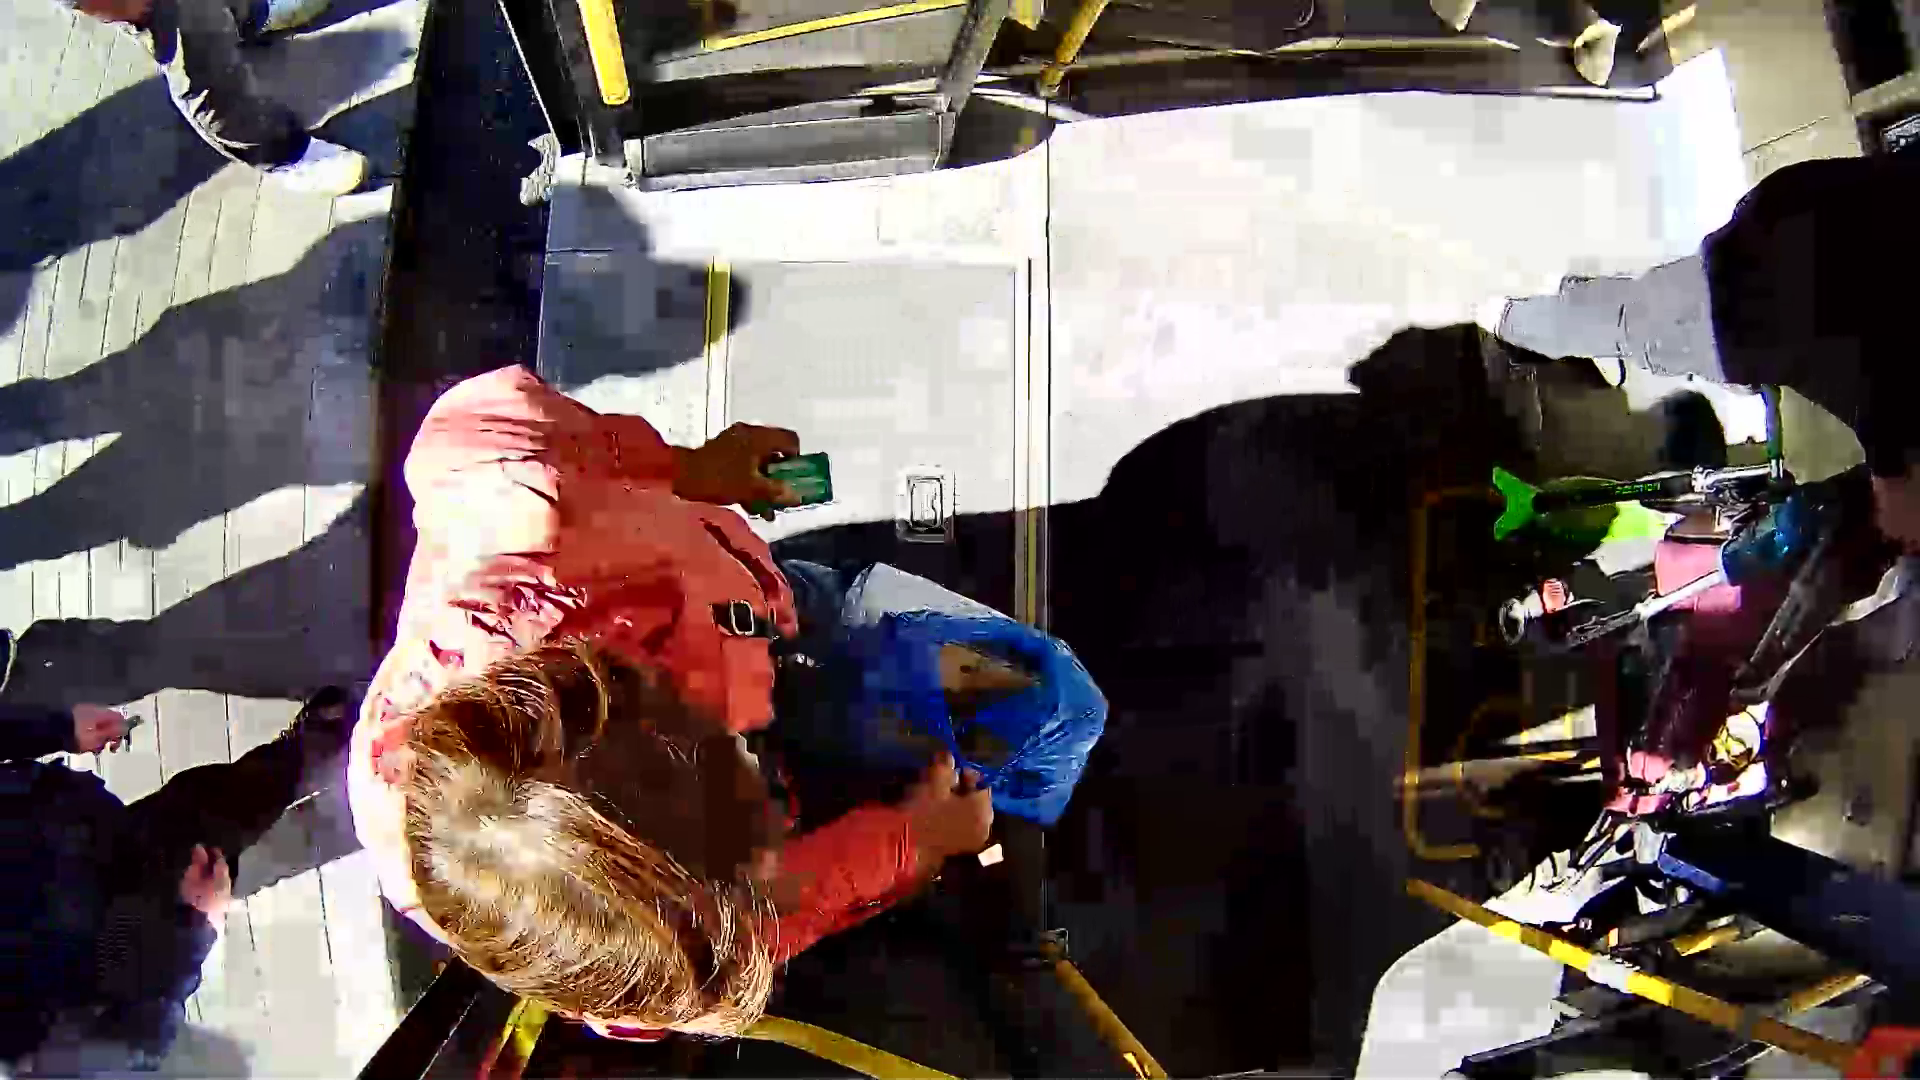person: (304, 388, 1268, 1028)
